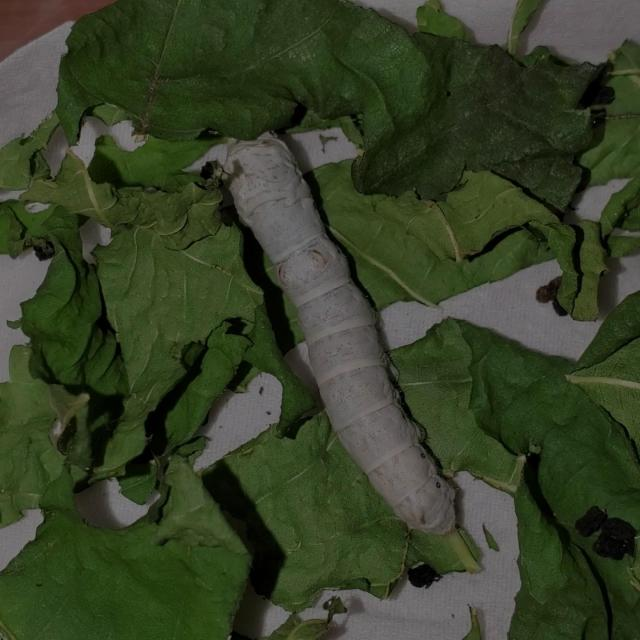Healthy: (209, 126, 480, 546)
